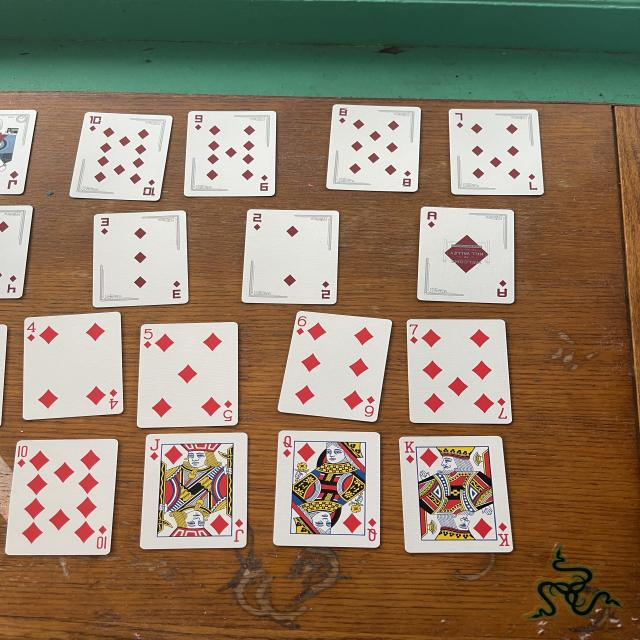10 of diamonds: (5, 439, 118, 555), (70, 112, 172, 201)
2 of diamonds: (242, 209, 340, 304)
3 of diamonds: (93, 210, 188, 308)
4 of diamonds: (23, 312, 123, 420), (0, 205, 33, 299)
5 of diamonds: (137, 322, 238, 428)
6 of diamonds: (278, 311, 392, 421)
7 of diamonds: (407, 319, 512, 424), (448, 109, 545, 195)
8 of diamonds: (327, 104, 422, 192)
9 of diamonds: (183, 111, 277, 196)
Ace of diamonds: (417, 206, 515, 304)
Jack of diamonds: (140, 432, 247, 549), (0, 110, 37, 195)
King of diamonds: (400, 436, 513, 552)
Queen of diamonds: (273, 431, 380, 548)
